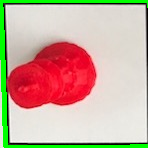Red King: (7, 33, 98, 114)
